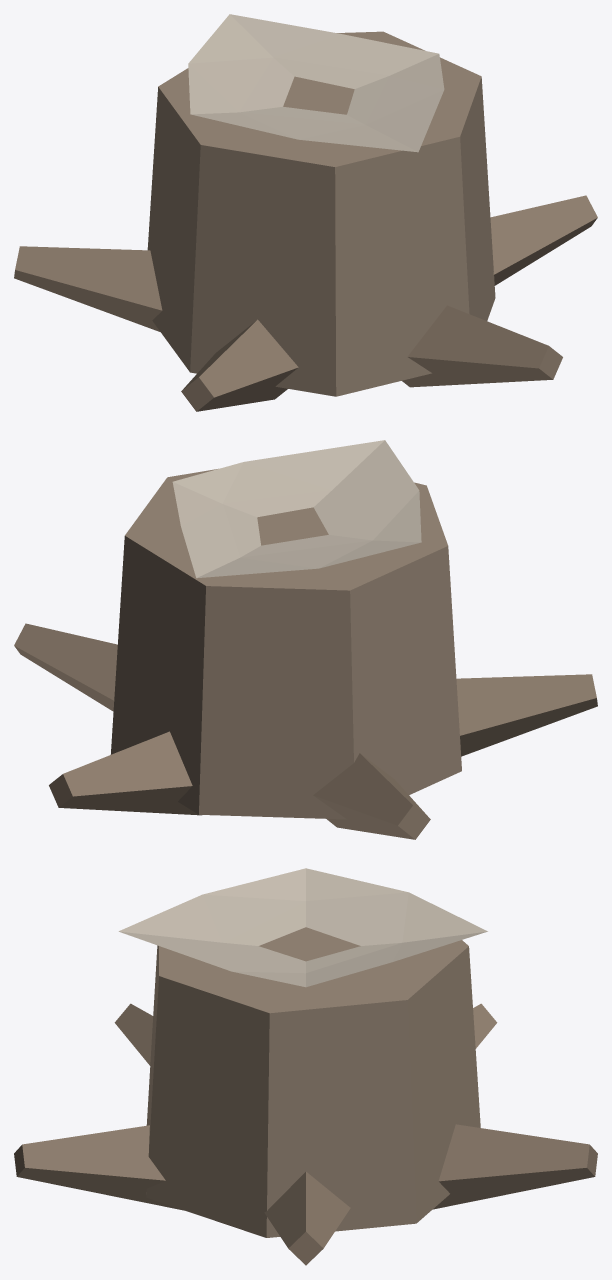
The model's file is stump_v00.glb.
3 renders of one model, top to bottom at view 1: azimuth 30°, elevation 25°; view 2: azimuth 150°, elevation 25°; view 3: azimuth 270°, elevation 25°, orthographic. The views are drawn at different scales.
Parts seen in each view (by area): view 1: lod0; view 2: lod0; view 3: lod0.
Boxes of the visible parts, bbox=[...] form: lod0: bbox=[14, 14, 597, 411]; lod0: bbox=[14, 440, 597, 839]; lod0: bbox=[14, 868, 597, 1265].
Size of what is drawn, in the model's own units: 0.6931 by 0.399 by 0.725.
